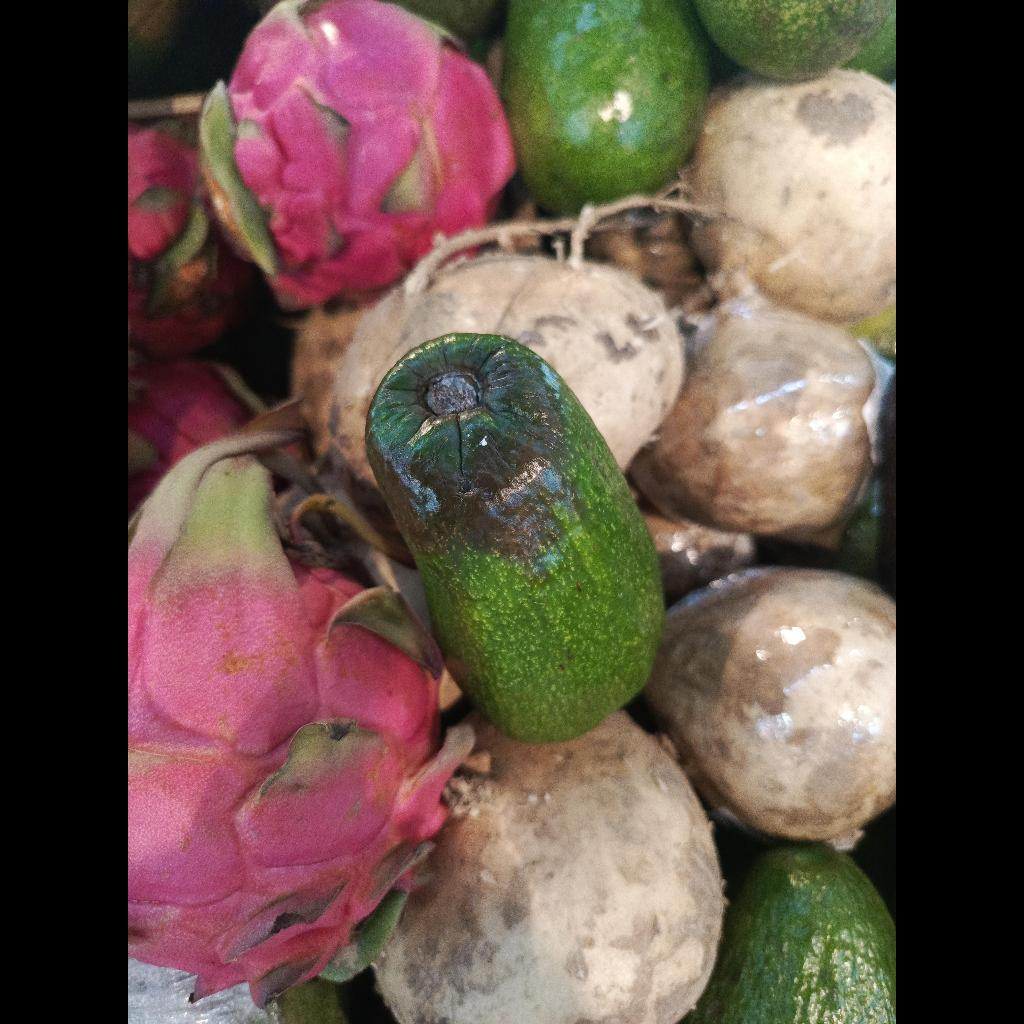pudricion_peduncular: (365, 333, 664, 742)
